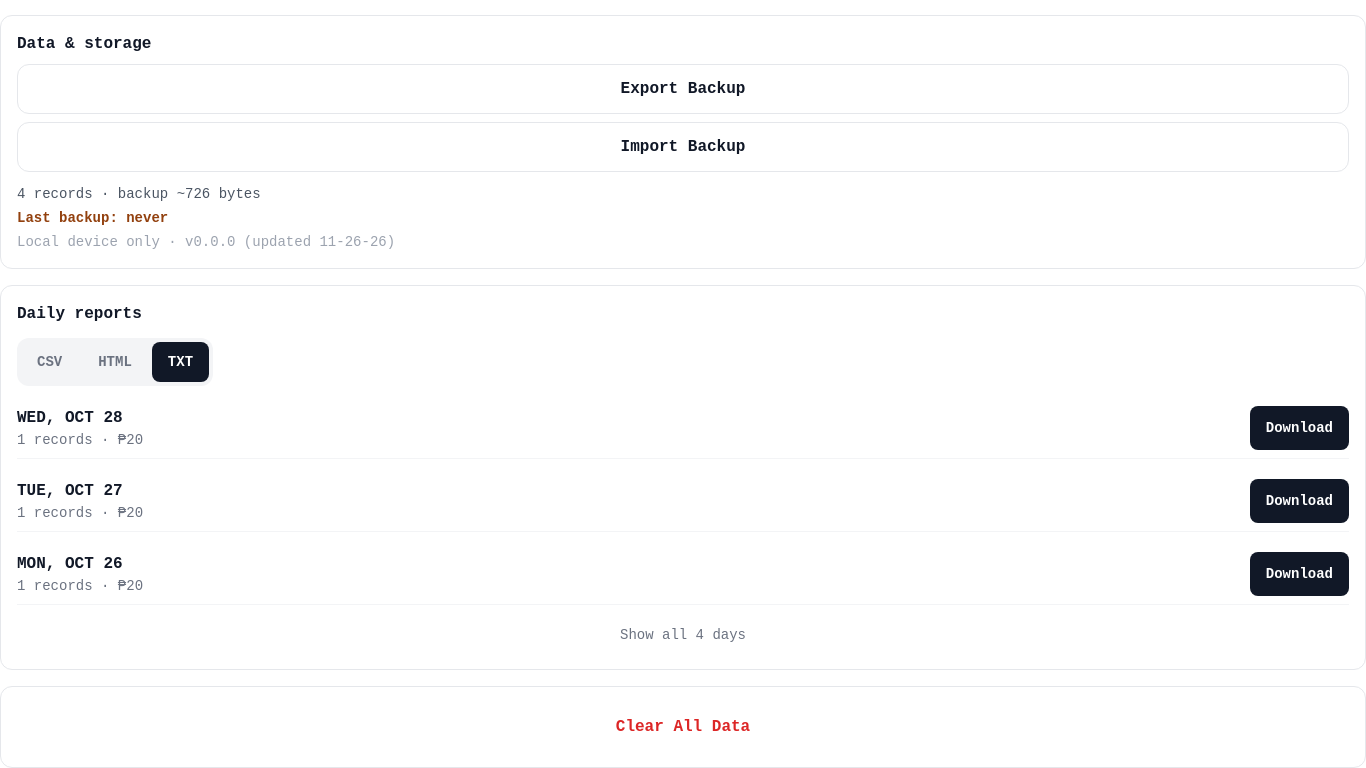
Settings view/edit › collapses report list to 3 with show-all toggle
(page scrolled)
Expected: the number of buttons "Download" is 3, [1250,406,1349,450]; [1250,479,1349,523]; [1250,552,1349,596]
Step 1. Click the button "Show all 4 days" → (683, 635), box [17,617,1349,653]
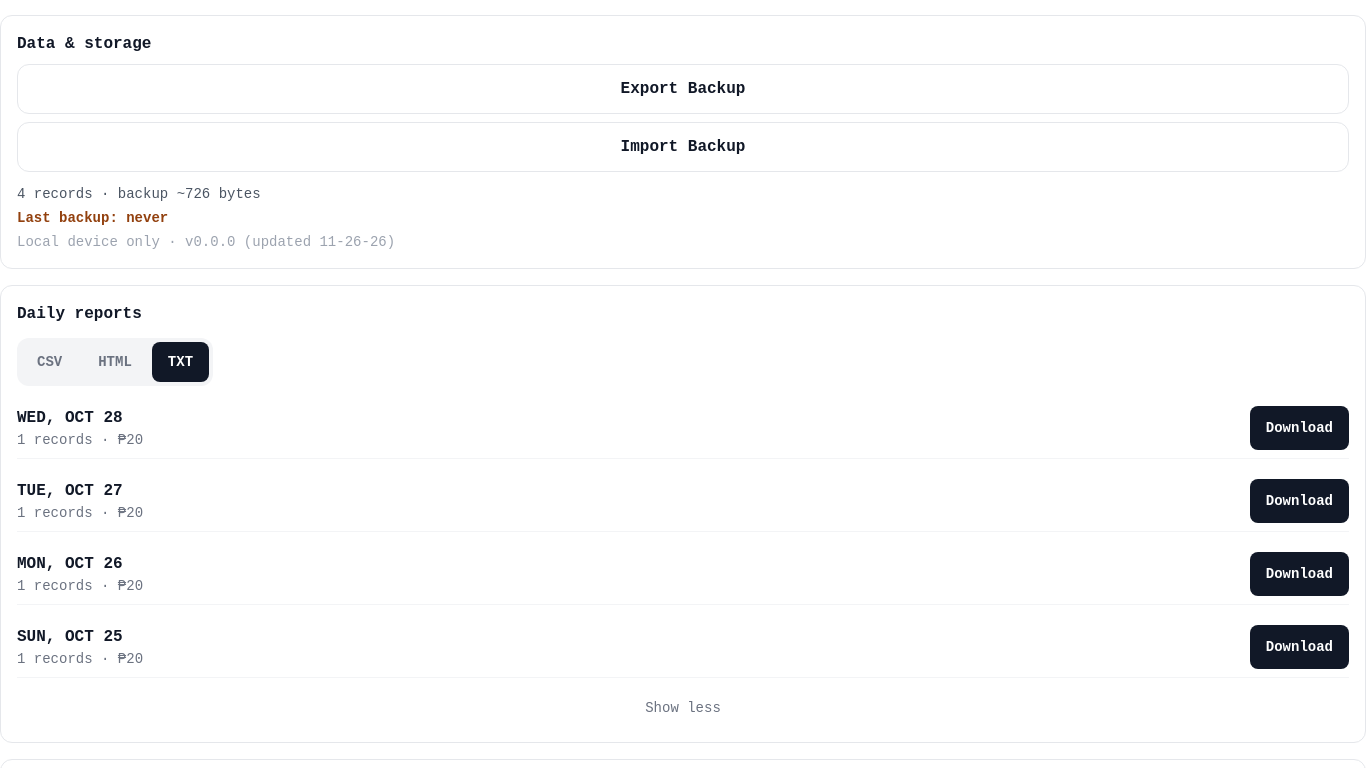
Expected: the number of buttons "Download" is 4, [1250,406,1349,450]; [1250,479,1349,523]; [1250,552,1349,596]; [1250,625,1349,669]
Step 2. Click the button "Show less" → (683, 708), box [17,690,1349,726]
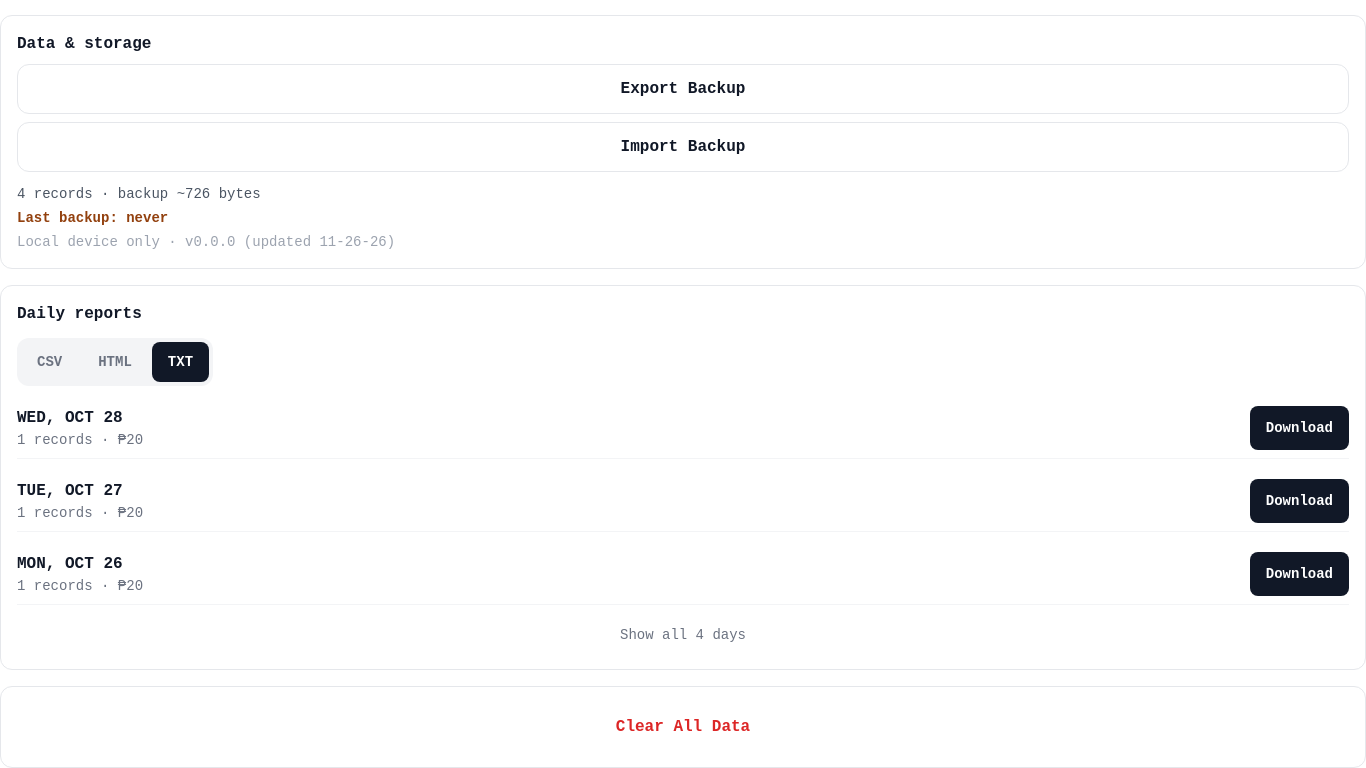
Expected: the number of buttons "Download" is 3, [1250,406,1349,450]; [1250,479,1349,523]; [1250,552,1349,596]
